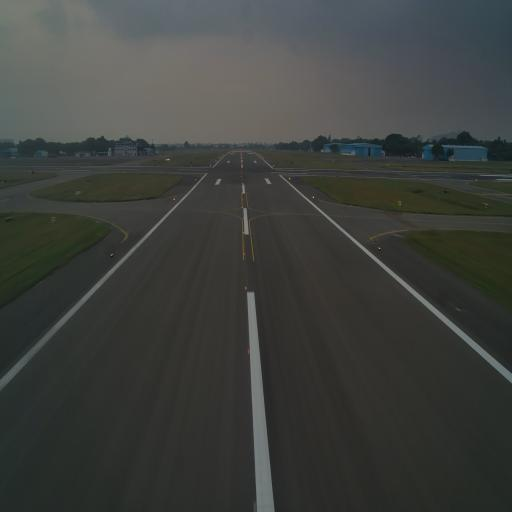on: (245, 347, 250, 357), (377, 244, 382, 251), (244, 285, 248, 293), (110, 251, 114, 259), (242, 229, 246, 235), (243, 251, 246, 257)
